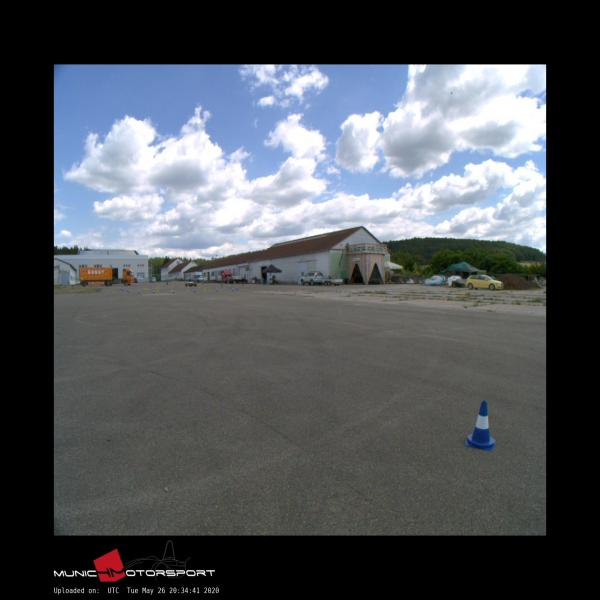blue_cone: (464, 400, 496, 451)
